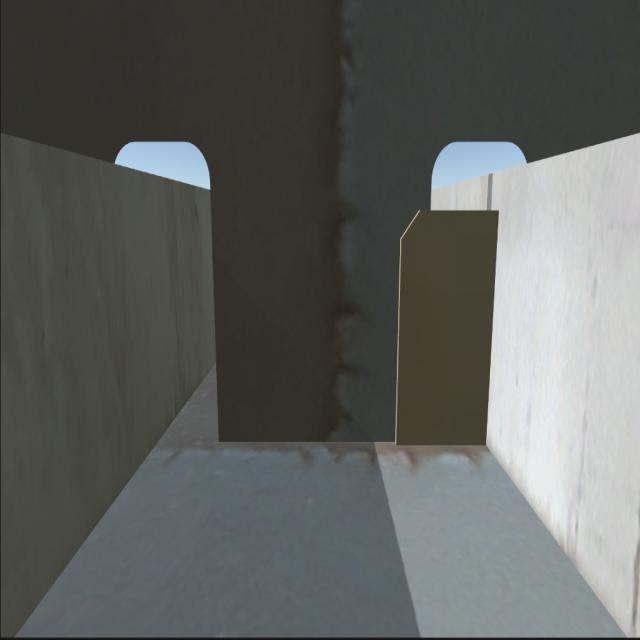fillet_yong_jeop_jang: (218, 428, 484, 451)
longi_yong_jeop_jang: (477, 209, 498, 447)
plate_CP03: (395, 204, 495, 441)
